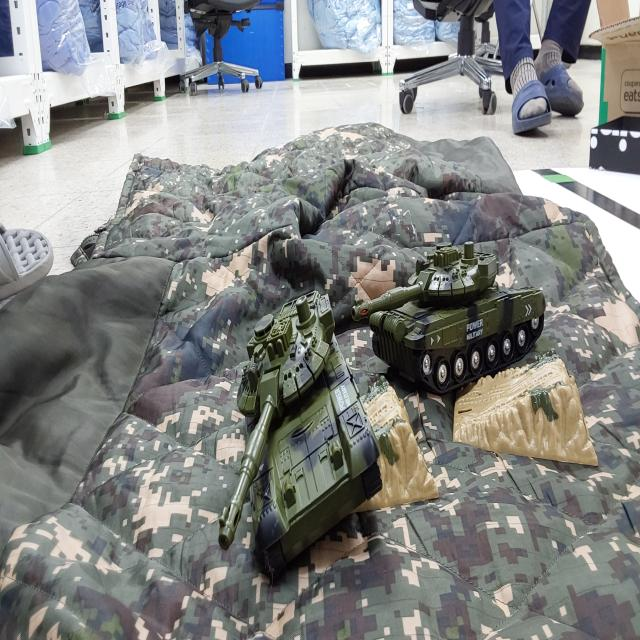enem_tank: (219, 294, 379, 574), (352, 241, 545, 394)
